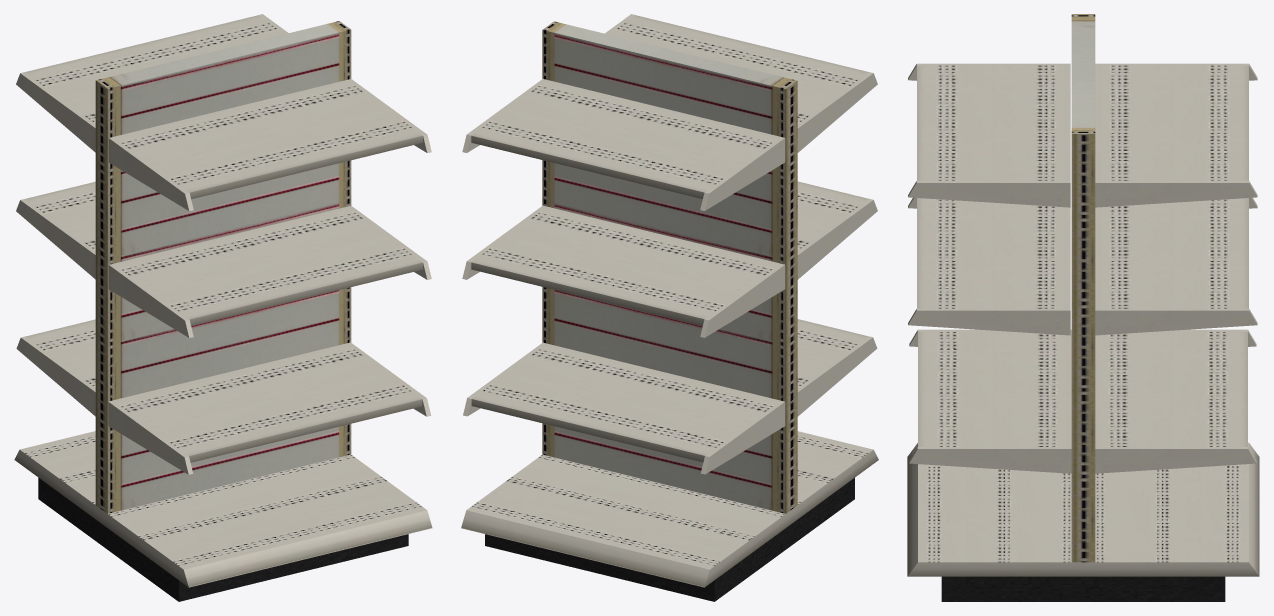
The model's file is Classic64_CommericalShelf_Model.fbx.
3 renders of one model, left to right at view 1: azimuth 30°, elevation 25°; view 2: azimuth 150°, elevation 25°; view 3: azimuth 270°, elevation 25°, orthographic.
Parts seen in each view (by area): view 1: Classic64_CommericalShelf_Part000, Classic64_CommericalShelf_Part019, Classic64_CommericalShelf_Part001, Classic64_CommericalShelf_Part002, Classic64_CommericalShelf_Part003, Classic64_CommericalShelf_Part004, Classic64_CommericalShelf_Part020, Classic64_CommericalShelf_Part005, Classic64_CommericalShelf_Part006, Classic64_CommericalShelf_Part009, Classic64_CommericalShelf_Part008, Classic64_CommericalShelf_Part007 (+6 smaller); view 2: Classic64_CommericalShelf_Part000, Classic64_CommericalShelf_Part019, Classic64_CommericalShelf_Part005, Classic64_CommericalShelf_Part004, Classic64_CommericalShelf_Part006, Classic64_CommericalShelf_Part003, Classic64_CommericalShelf_Part020, Classic64_CommericalShelf_Part002, Classic64_CommericalShelf_Part001, Classic64_CommericalShelf_Part011, Classic64_CommericalShelf_Part010, Classic64_CommericalShelf_Part012 (+6 smaller); view 3: Classic64_CommericalShelf_Part019, Classic64_CommericalShelf_Part003, Classic64_CommericalShelf_Part004, Classic64_CommericalShelf_Part001, Classic64_CommericalShelf_Part006, Classic64_CommericalShelf_Part005, Classic64_CommericalShelf_Part002, Classic64_CommericalShelf_Part000, Classic64_CommericalShelf_Part020, Classic64_CommericalShelf_Part015, Classic64_CommericalShelf_Part016, Classic64_CommericalShelf_Part014 (+5 smaller).
Boxes of the visible parts, x1,y1,x2,y2 form: Classic64_CommericalShelf_Part000: (95,21,351,513); Classic64_CommericalShelf_Part019: (14,431,432,587); Classic64_CommericalShelf_Part001: (113,343,422,462); Classic64_CommericalShelf_Part002: (113,207,422,325); Classic64_CommericalShelf_Part003: (114,80,422,199); Classic64_CommericalShelf_Part004: (25,15,283,123); Classic64_CommericalShelf_Part020: (38,477,408,601); Classic64_CommericalShelf_Part005: (25,181,95,250); Classic64_CommericalShelf_Part006: (25,319,95,387); Classic64_CommericalShelf_Part009: (108,137,193,211); Classic64_CommericalShelf_Part008: (108,264,193,337); Classic64_CommericalShelf_Part007: (108,400,193,474); Classic64_CommericalShelf_Part000: (542,21,797,513); Classic64_CommericalShelf_Part019: (461,431,878,587); Classic64_CommericalShelf_Part005: (471,206,780,325); Classic64_CommericalShelf_Part004: (471,80,780,198); Classic64_CommericalShelf_Part006: (471,343,780,462); Classic64_CommericalShelf_Part003: (609,15,868,123); Classic64_CommericalShelf_Part020: (485,478,854,601); Classic64_CommericalShelf_Part002: (797,181,868,250); Classic64_CommericalShelf_Part001: (797,319,867,387); Classic64_CommericalShelf_Part011: (700,263,785,337); Classic64_CommericalShelf_Part010: (700,137,785,210); Classic64_CommericalShelf_Part012: (700,400,785,474); Classic64_CommericalShelf_Part019: (907,442,1259,576); Classic64_CommericalShelf_Part003: (917,65,1070,180); Classic64_CommericalShelf_Part004: (1095,65,1248,180); Classic64_CommericalShelf_Part001: (918,332,1071,446); Classic64_CommericalShelf_Part006: (1095,332,1247,446); Classic64_CommericalShelf_Part005: (1095,198,1248,308); Classic64_CommericalShelf_Part002: (917,198,1070,308); Classic64_CommericalShelf_Part000: (1071,14,1095,562); Classic64_CommericalShelf_Part020: (941,576,1225,601); Classic64_CommericalShelf_Part015: (908,180,1070,207); Classic64_CommericalShelf_Part016: (1095,180,1257,207); Classic64_CommericalShelf_Part014: (908,308,1070,335).
Size of the model in its own units: 0.9144 by 1.68 by 1.13.
Materials: 4 (4 with a texture image).
